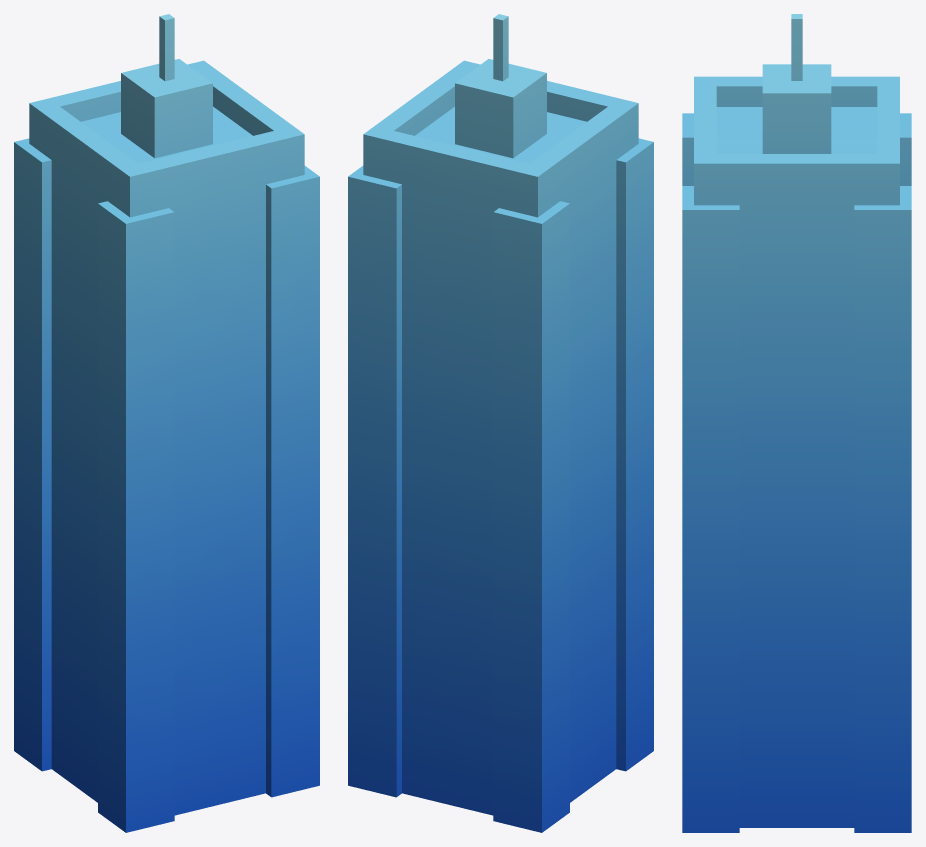
Rendered from build1.fbx.
3 renders of one model, left to right at view 1: azimuth 30°, elevation 25°; view 2: azimuth 150°, elevation 25°; view 3: azimuth 270°, elevation 25°, orthographic. The views are drawn at different scales.
Visible parts, largest first — view 1: low_buildingD; view 2: low_buildingD; view 3: low_buildingD.
Part boxes in pixels (bbox=[...]): low_buildingD: bbox=[14, 14, 319, 832]; low_buildingD: bbox=[348, 14, 653, 832]; low_buildingD: bbox=[682, 14, 911, 832].
Bounding box in the file's own units: 50 × 185 × 50.
